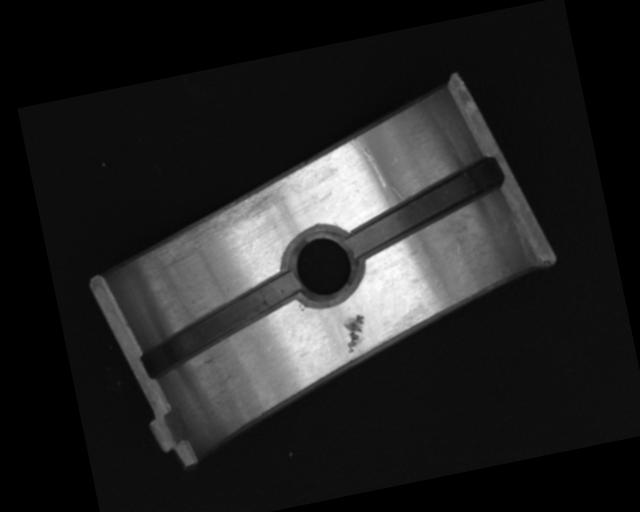bruise: (339, 312, 370, 355)
gap: (133, 268, 309, 380), (337, 156, 513, 258)
hole: (277, 222, 370, 310)
nick: (347, 133, 385, 193)
scratch: (133, 154, 353, 277)
